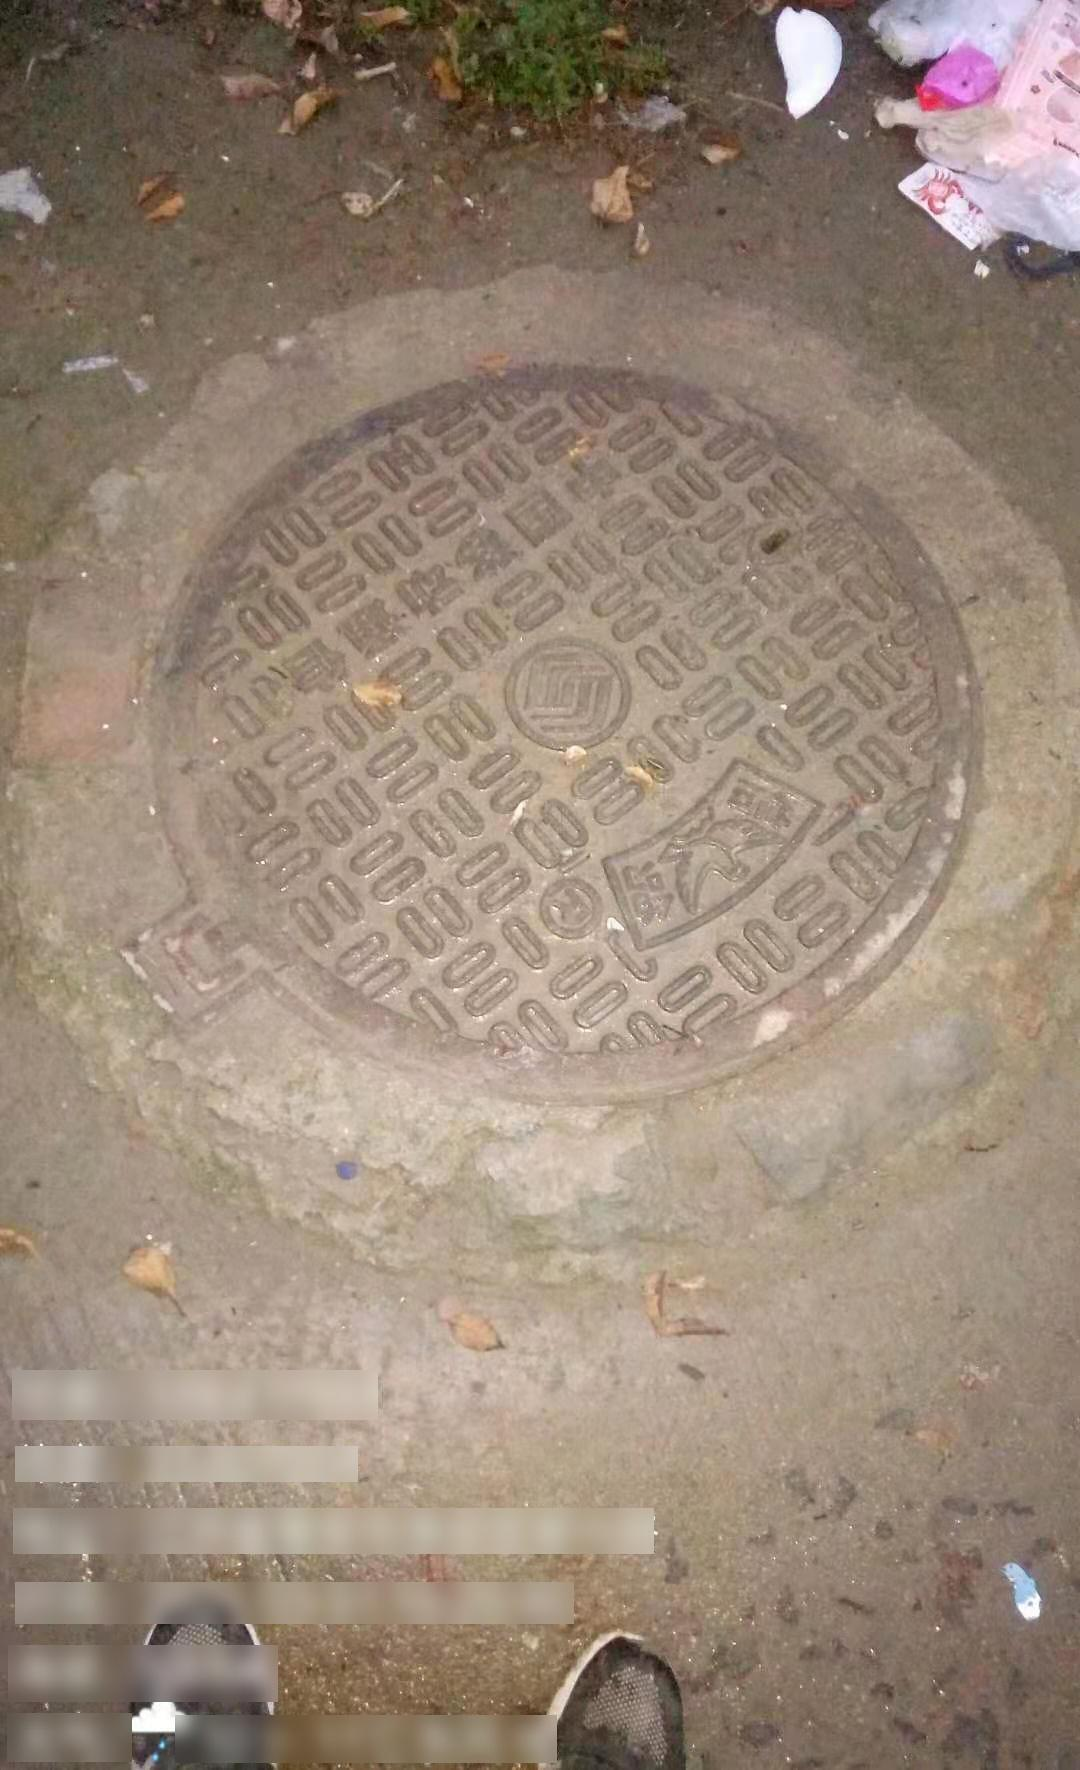wellcover: (114, 311, 998, 1119)
